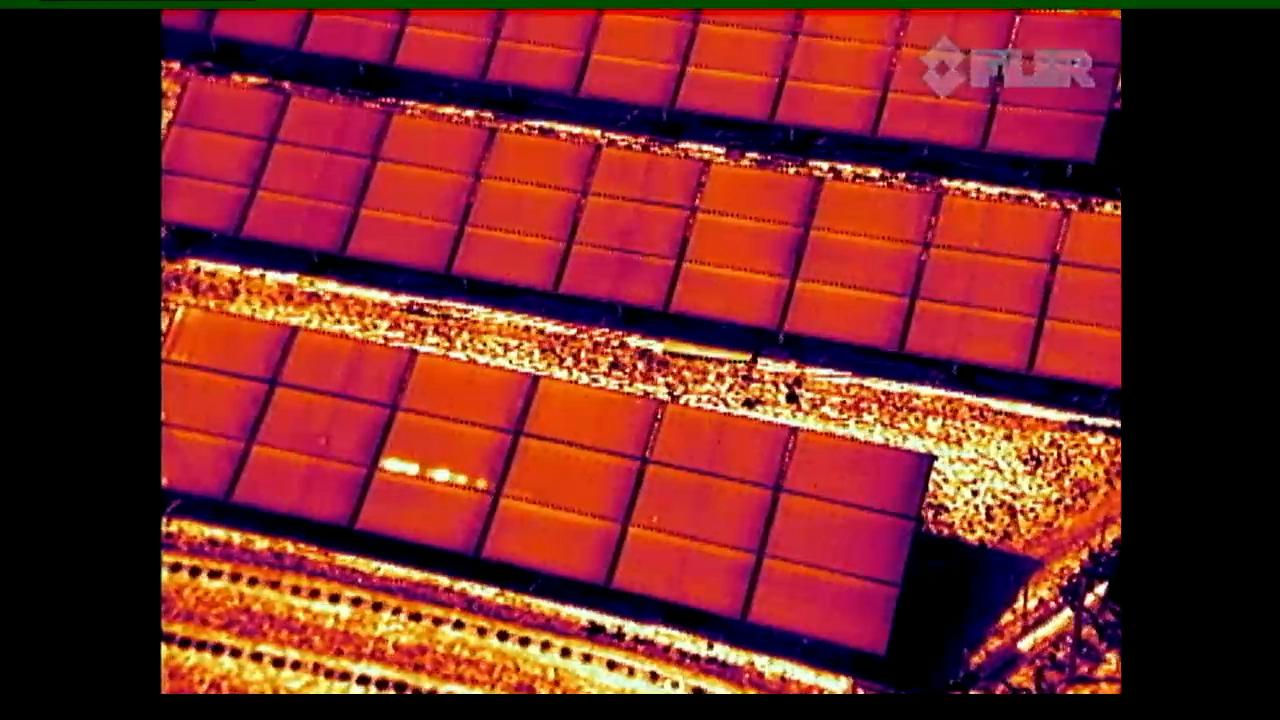hotspot: (351, 355, 538, 546)
